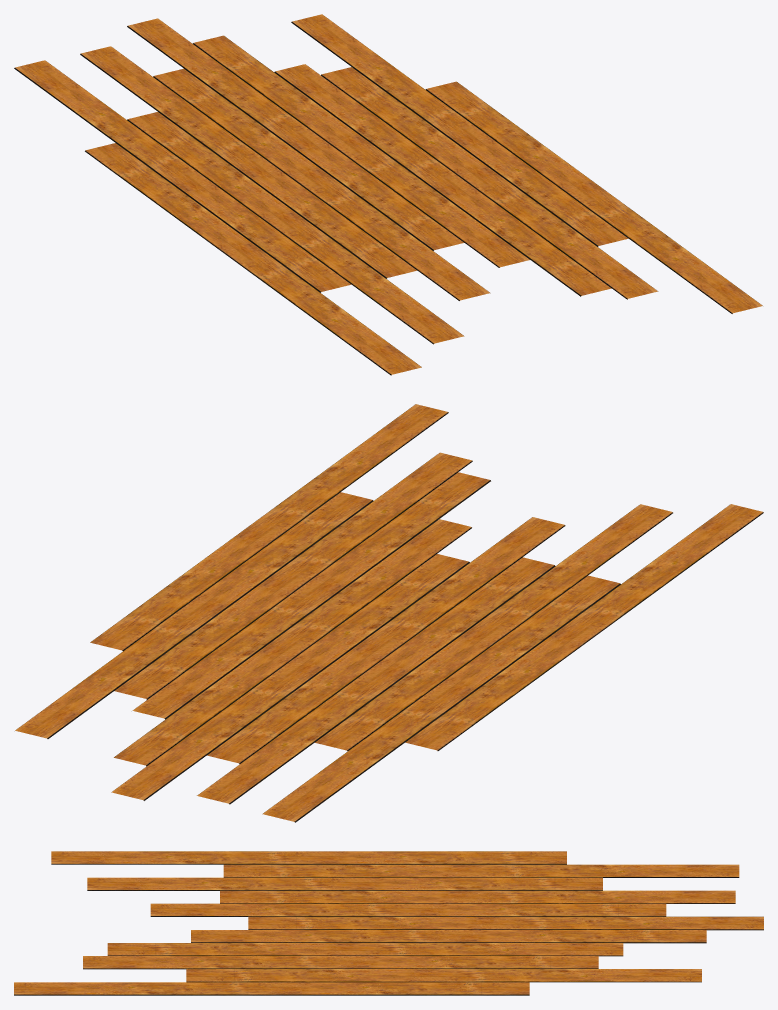
The model's file is planks_02.fbx.
3 renders of one model, top to bottom at view 1: azimuth 30°, elevation 25°; view 2: azimuth 150°, elevation 25°; view 3: azimuth 270°, elevation 25°, orthographic. The views are drawn at different scales.
Parts seen in each view (by area): view 1: pPlane3, pPlane5, pPlane2, pPlane6, pPlane9, pPlane10, pPlane7, pPlane11, pPlane1, pPlane4, pPlane8; view 2: pPlane8, pPlane9, pPlane1, pPlane2, pPlane3, pPlane4, pPlane5, pPlane10, pPlane11, pPlane7, pPlane6; view 3: pPlane6, pPlane2, pPlane5, pPlane1, pPlane3, pPlane4, pPlane10, pPlane11, pPlane9, pPlane7, pPlane8.
Part boxes in pixels (x1=…): pPlane3: x1=127, y1=112, x2=464, y2=344; pPlane5: x1=153, y1=68, x2=490, y2=300; pPlane2: x1=14, y1=60, x2=351, y2=292; pPlane6: x1=127, y1=18, x2=464, y2=250; pPlane9: x1=321, y1=67, x2=658, y2=299; pPlane10: x1=291, y1=14, x2=628, y2=246; pPlane7: x1=193, y1=35, x2=529, y2=267; pPlane11: x1=425, y1=81, x2=762, y2=313; pPlane1: x1=85, y1=143, x2=421, y2=375; pPlane4: x1=80, y1=46, x2=417, y2=278; pPlane8: x1=274, y1=64, x2=611, y2=296; pPlane8: x1=132, y1=472, x2=490, y2=719; pPlane9: x1=114, y1=452, x2=472, y2=699; pPlane1: x1=405, y1=504, x2=763, y2=750; pPlane2: x1=262, y1=575, x2=620, y2=822; pPlane3: x1=315, y1=504, x2=672, y2=751; pPlane4: x1=197, y1=557, x2=555, y2=804; pPlane5: x1=207, y1=517, x2=565, y2=763; pPlane10: x1=15, y1=492, x2=373, y2=738; pPlane11: x1=90, y1=404, x2=448, y2=650; pPlane7: x1=114, y1=519, x2=471, y2=766; pPlane6: x1=111, y1=554, x2=469, y2=800; pPlane6: x1=248, y1=916, x2=763, y2=930; pPlane2: x1=223, y1=864, x2=739, y2=877; pPlane5: x1=150, y1=903, x2=666, y2=916; pPlane1: x1=51, y1=851, x2=566, y2=864; pPlane3: x1=87, y1=877, x2=602, y2=890; pPlane4: x1=220, y1=890, x2=735, y2=903; pPlane10: x1=186, y1=969, x2=701, y2=982; pPlane11: x1=14, y1=982, x2=529, y2=995; pPlane9: x1=83, y1=956, x2=598, y2=969; pPlane7: x1=191, y1=930, x2=706, y2=943; pPlane8: x1=107, y1=943, x2=623, y2=956.
Bounding box in the file's own units: 165 × 0.3339 × 364.
1 material, 1 textured.
